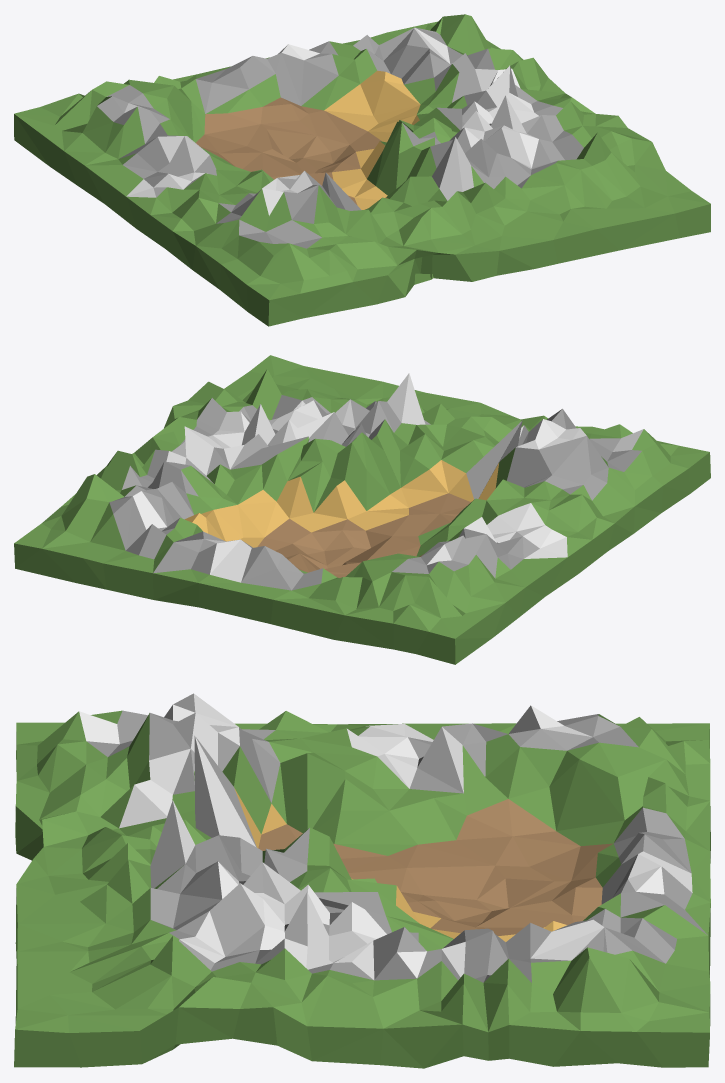
The model's file is island.glb.
3 renders of one model, top to bottom at view 1: azimuth 30°, elevation 25°; view 2: azimuth 150°, elevation 25°; view 3: azimuth 270°, elevation 25°, orthographic. The views are drawn at different scales.
Visible parts, largest first — view 1: Plane; view 2: Plane; view 3: Plane.
Part boxes in pixels (x1,y1,x2,y2): Plane: (14, 14, 710, 326); Plane: (14, 355, 710, 664); Plane: (14, 693, 710, 1068).
Bounding box in the file's own units: 14.39 × 3.4 × 14.37.
